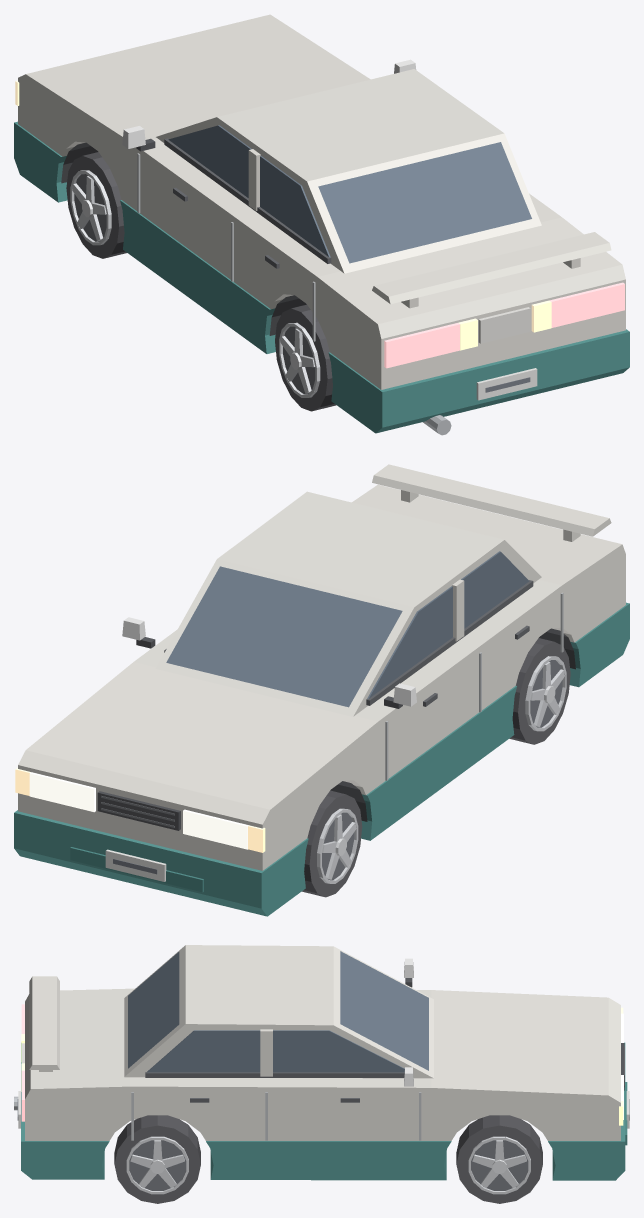
The model's file is sado.glb.
3 renders of one model, top to bottom at view 1: azimuth 30°, elevation 25°; view 2: azimuth 150°, elevation 25°; view 3: azimuth 270°, elevation 25°, orthographic. The views are drawn at different scales.
Visible parts, largest first — view 1: Body, Rim, Rim3; view 2: Body, Rim, Rim3; view 3: Body, Rim2, Rim4.
Boxes of the visible parts, <box> form: Body: <box>14,14,629,435</box>; Rim: <box>66,152,126,258</box>; Rim3: <box>275,304,336,411</box>; Body: <box>14,464,629,916</box>; Rim: <box>302,790,362,897</box>; Rim3: <box>509,638,570,744</box>; Body: <box>14,945,629,1180</box>; Rim2: <box>456,1115,542,1203</box>; Rim4: <box>114,1115,200,1203</box>.
Size of the model in its own units: 1.96 by 1.35 by 4.41.
